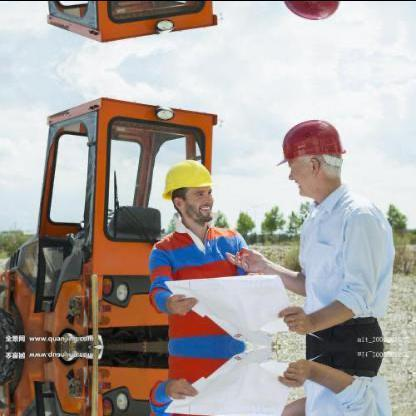Helmet: (271, 105, 353, 199), (157, 148, 221, 226), (270, 0, 354, 32)
